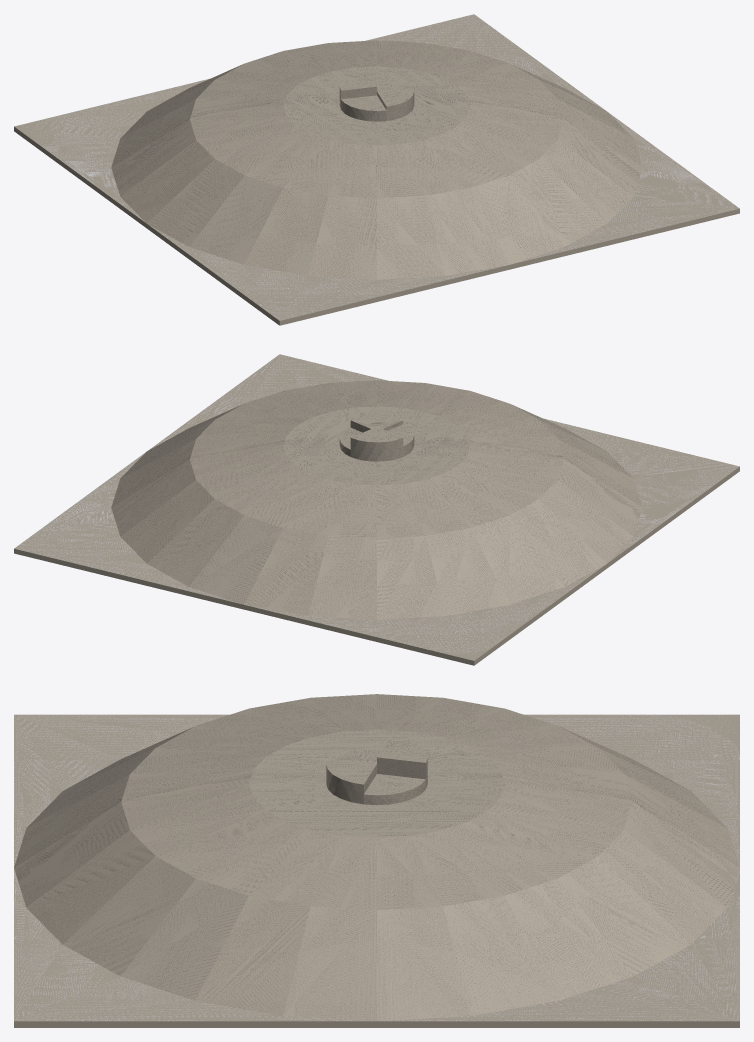
The model's file is resource-node.dae.
The picture shows the model from 3 angles, top to bottom: view 1: azimuth 30°, elevation 25°; view 2: azimuth 150°, elevation 25°; view 3: azimuth 270°, elevation 25°; orthographic projection. The views are drawn at different scales.
Parts seen in each view (by area): view 1: baseMesh, topMesh, ground0, ground2, ground1, ground3, belowGround; view 2: baseMesh, topMesh, ground1, ground3, ground0, ground2, belowGround; view 3: baseMesh, topMesh, ground2, ground3, ground1, ground0, belowGround.
Part boxes in pixels (<box>): baseMesh: <box>111,65,642,279</box>; topMesh: <box>190,40,563,198</box>; ground0: <box>148,224,508,320</box>; ground2: <box>512,112,739,264</box>; ground1: <box>14,78,209,222</box>; ground3: <box>365,14,605,110</box>; belowGround: <box>14,127,739,325</box>; baseMesh: <box>111,405,642,619</box>; topMesh: <box>190,380,563,538</box>; ground1: <box>245,564,605,660</box>; ground3: <box>14,452,241,604</box>; ground0: <box>544,418,739,562</box>; ground2: <box>148,354,388,450</box>; belowGround: <box>14,467,739,665</box>; baseMesh: <box>14,727,739,1021</box>; topMesh: <box>121,694,632,910</box>; ground2: <box>14,868,373,1021</box>; ground3: <box>380,868,739,1021</box>; ground1: <box>524,714,739,866</box>; ground0: <box>14,714,229,866</box>; belowGround: <box>14,1021,739,1027</box>.
Bounding box in the file's own units: 10 × 10 × 1.78.
